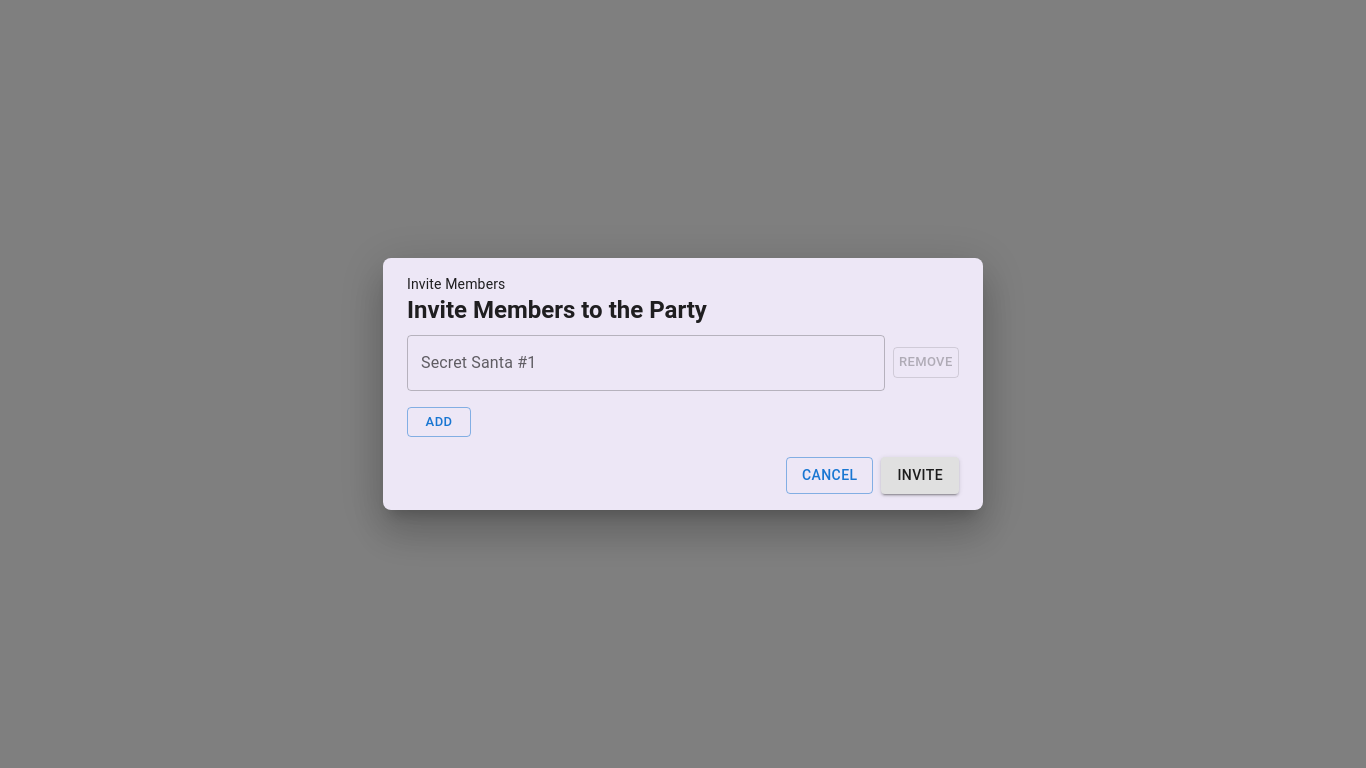
Test: InviteMembers › shows an error when an invitation fails
In the field labelled "Secret Santa #1": (646, 363) [407,335,884,391], type "a@example.com"
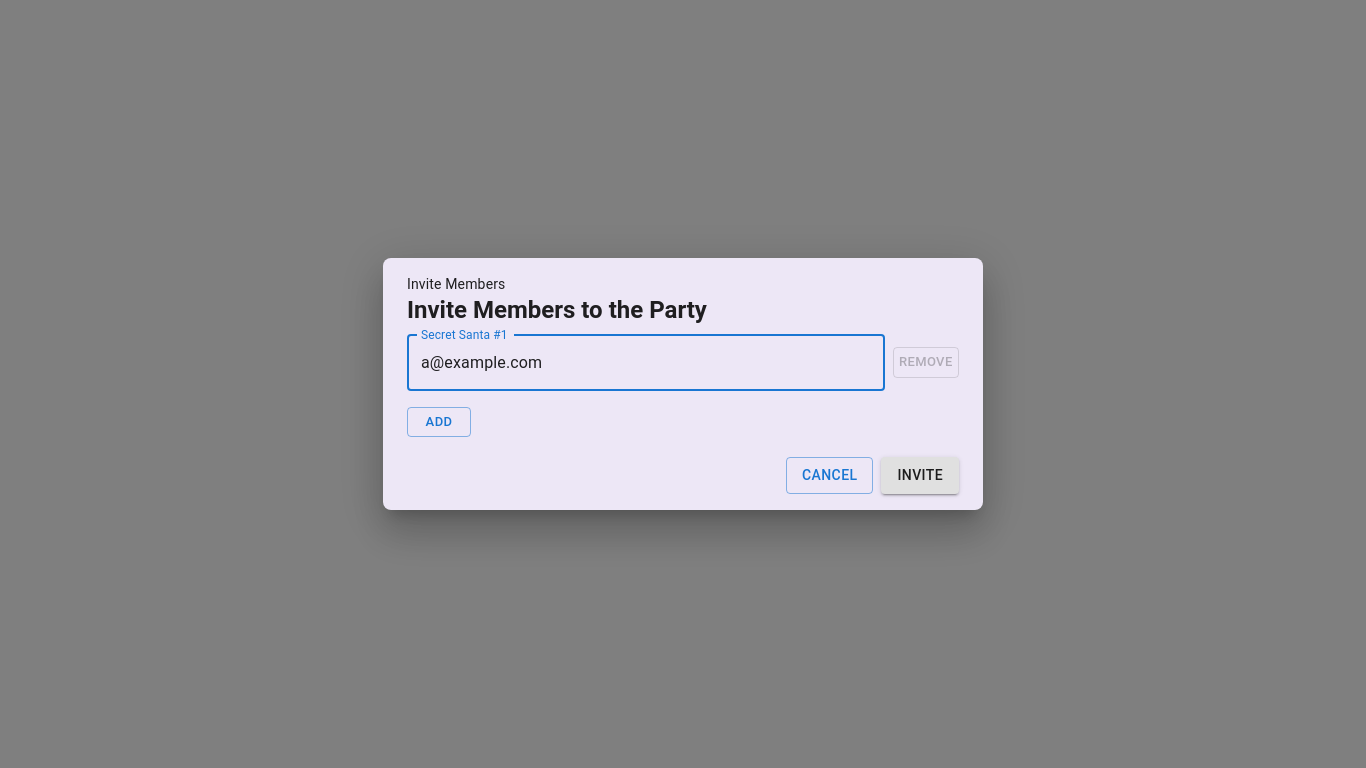
Click the button "Invite": (920, 476) [882,457,959,494]
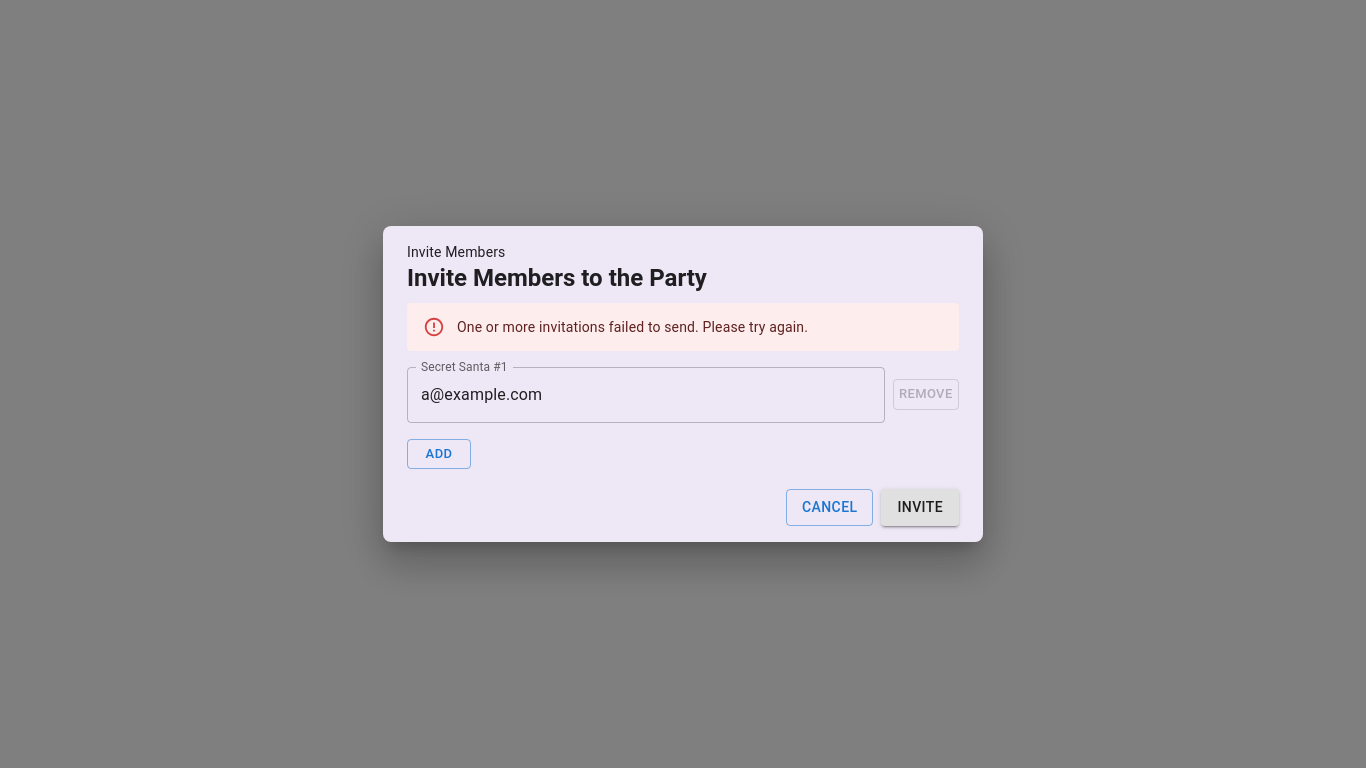
Expected: the message "One or more invitations failed to send. Please try again." is shown, [407,303,959,351]
